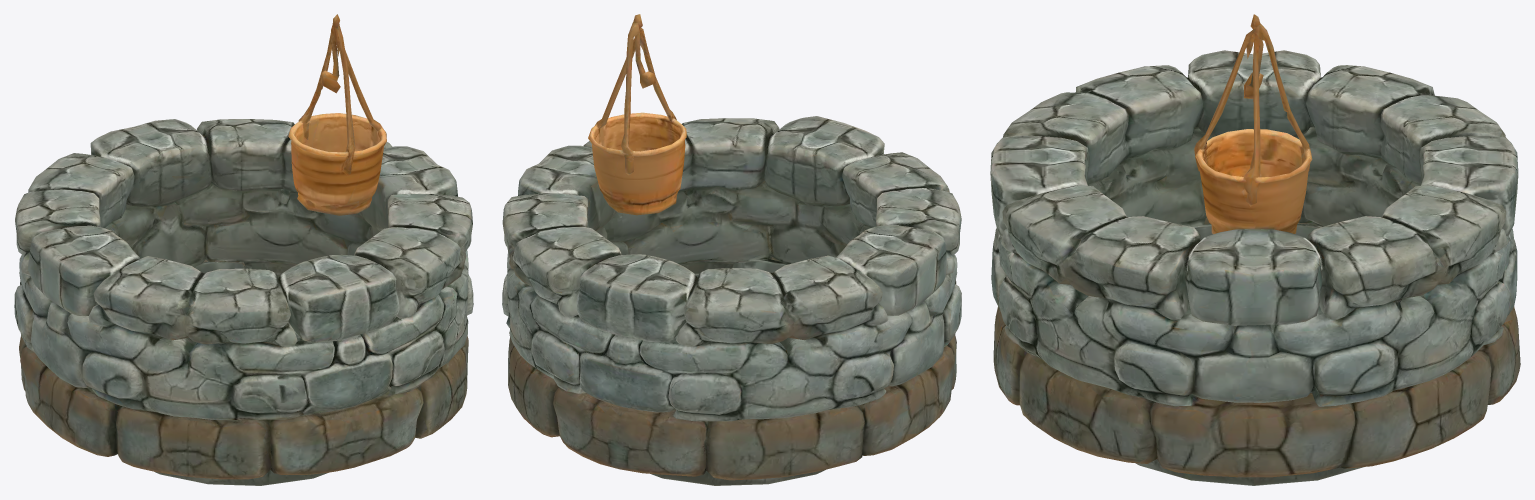
File: old_stone_well.glb
The picture shows the model from 3 angles, left to right: view 1: azimuth 30°, elevation 25°; view 2: azimuth 150°, elevation 25°; view 3: azimuth 270°, elevation 25°; orthographic projection. The views are drawn at different scales.
Size of the model in its own units: 1.91 by 1.82 by 1.91.
1 material, 1 textured.
